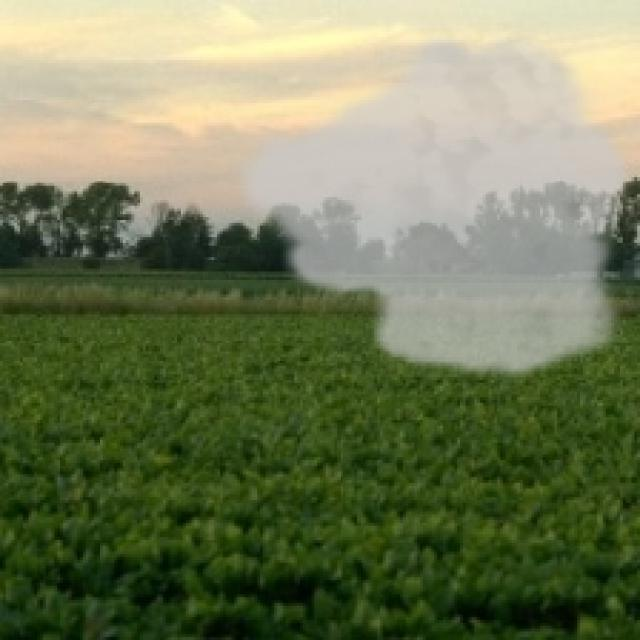smoke: (226, 23, 634, 383)
